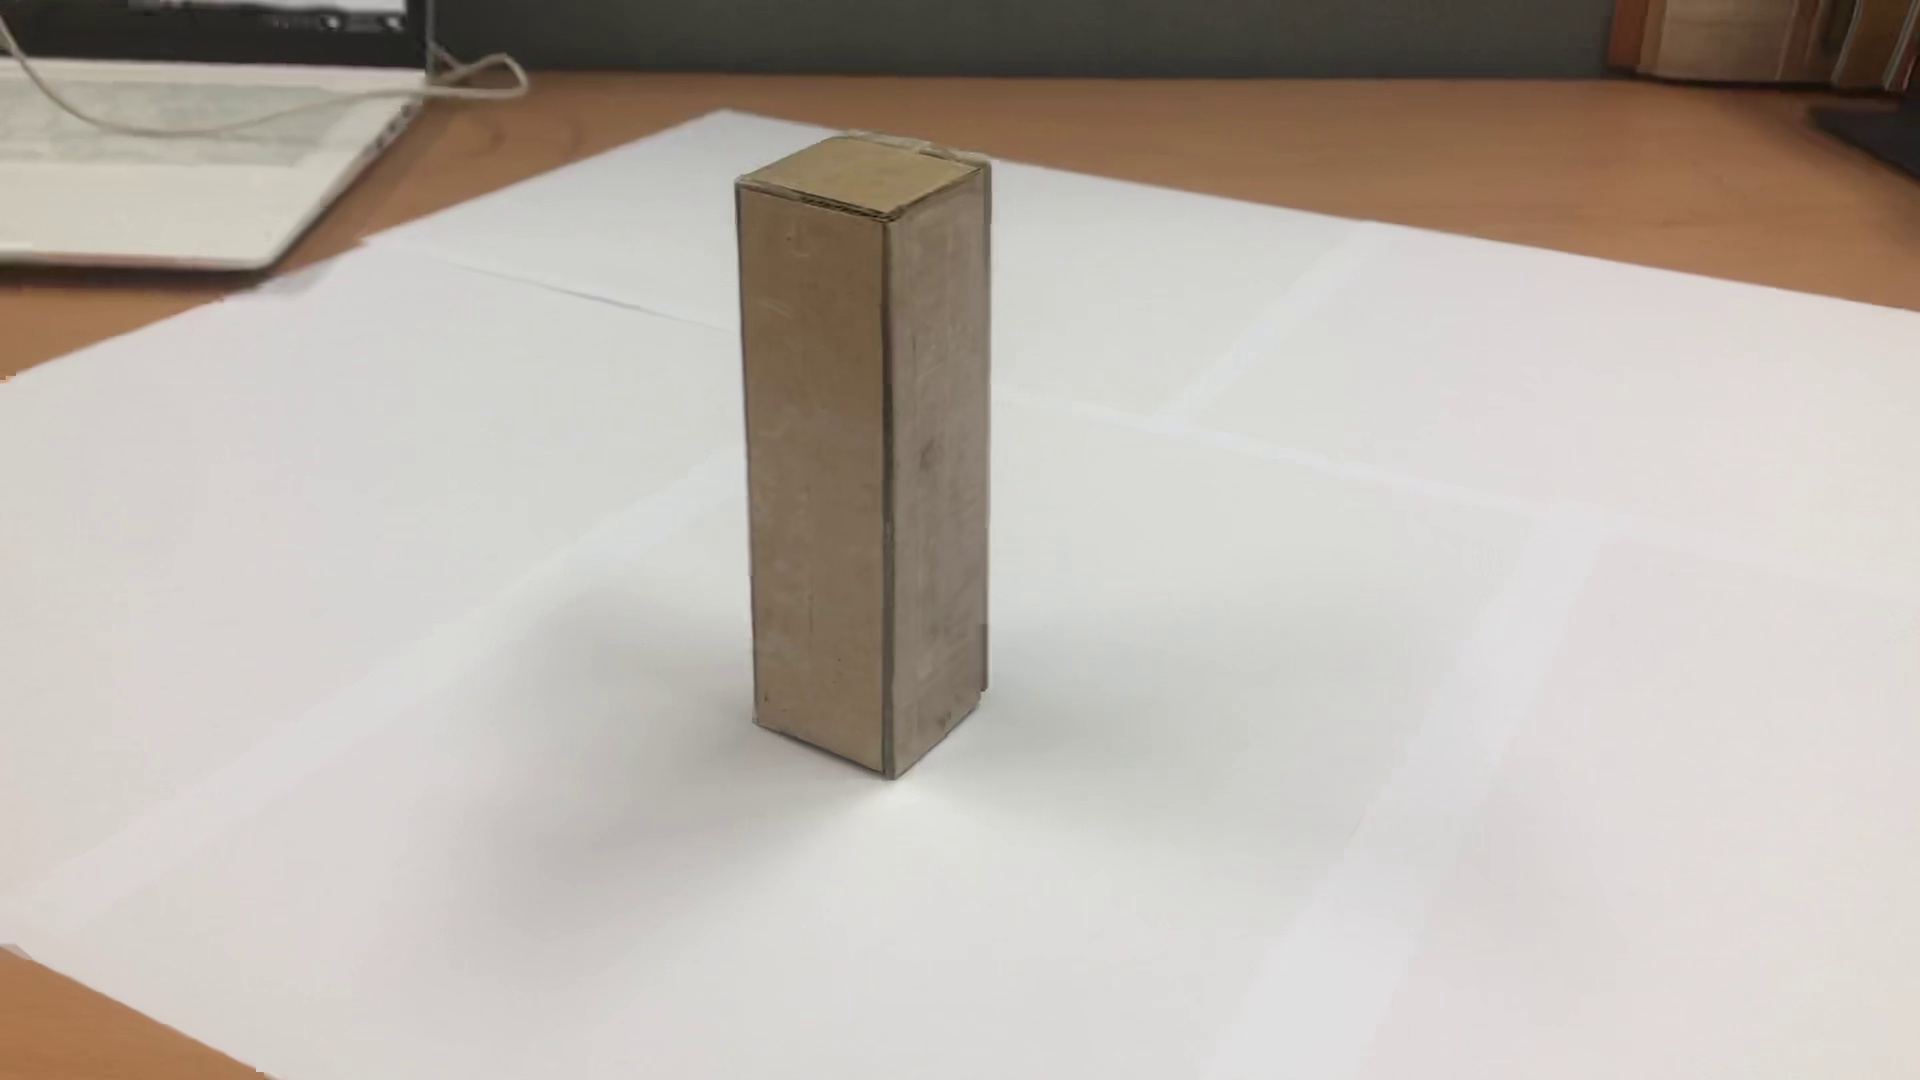box: (723, 102, 1005, 785)
